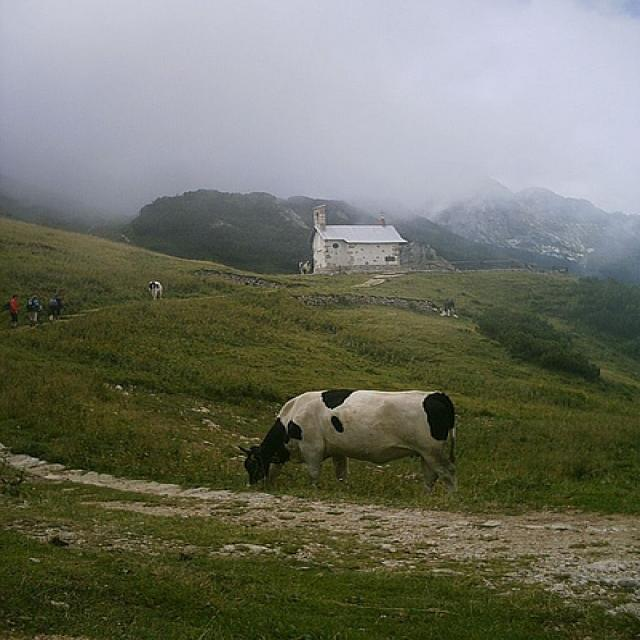cow: (232, 385, 458, 488)
